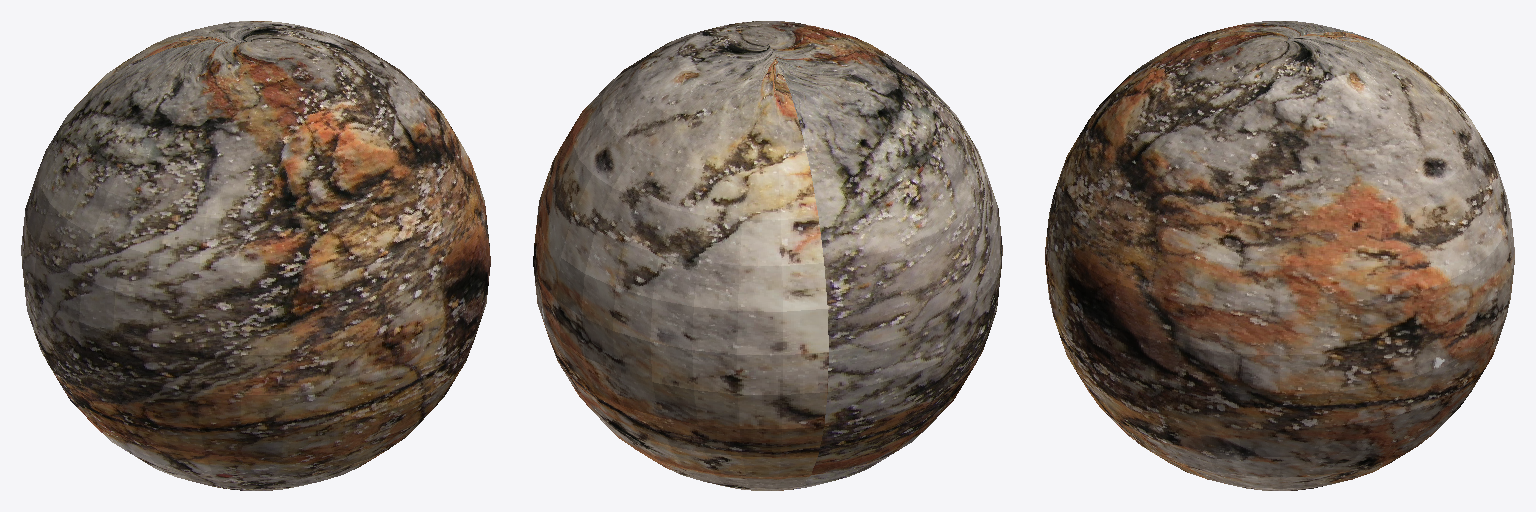
The picture shows the model from 3 angles: view 1: azimuth 30°, elevation 25°; view 2: azimuth 150°, elevation 25°; view 3: azimuth 270°, elevation 25°; orthographic projection.
Visible parts, largest first — view 1: Sphere; view 2: Sphere; view 3: Sphere.
Boxes of the visible parts, x1,y1,x2,y2 form: Sphere: [21, 21, 490, 490]; Sphere: [533, 21, 1002, 490]; Sphere: [1045, 21, 1514, 490].
Size of the model in its own units: 2 by 2 by 2.
1 materials, 1 textured.